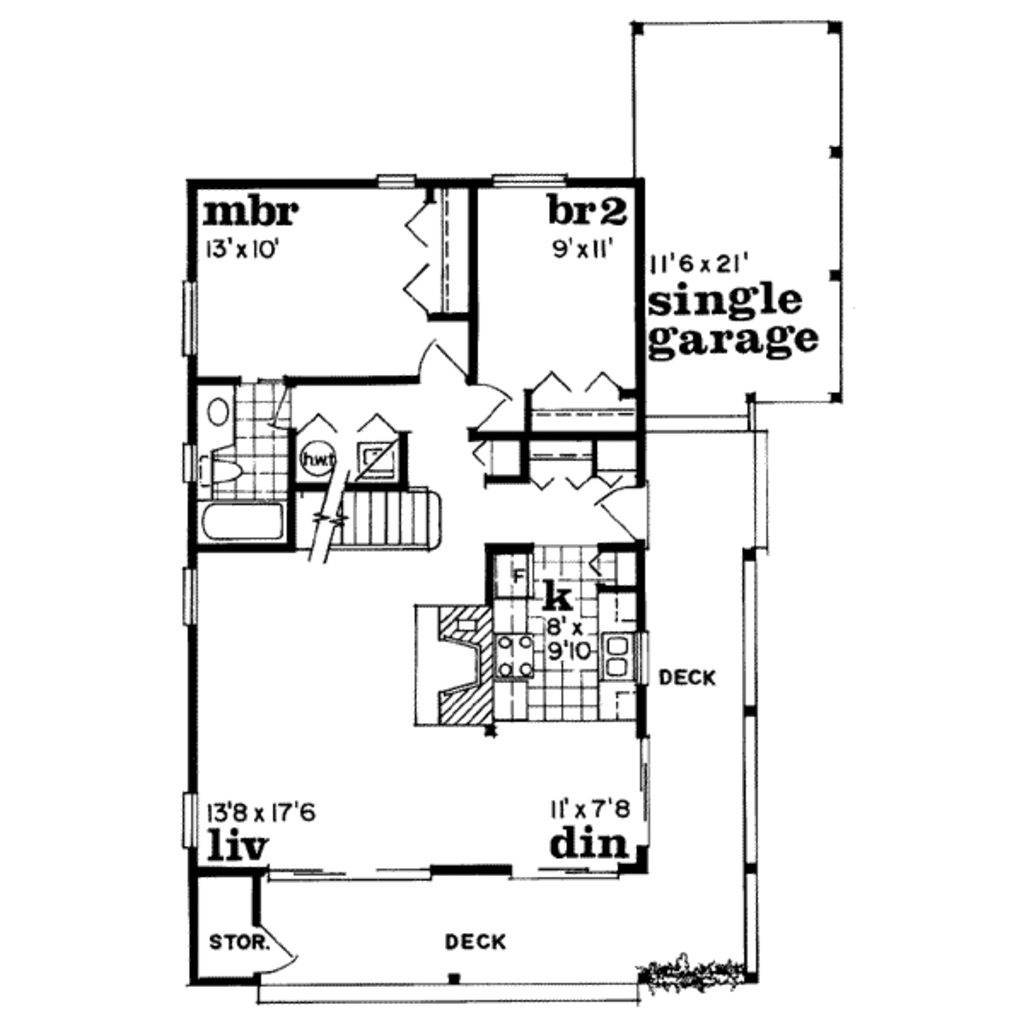door: (583, 479, 658, 542), (462, 375, 515, 437), (408, 335, 471, 382), (248, 923, 297, 975)
small_sink: (189, 390, 242, 435)
stairs: (292, 485, 449, 558)
tub: (193, 496, 291, 552)
twin_sink: (582, 622, 638, 691)
window: (172, 564, 207, 636), (175, 274, 204, 359), (487, 167, 578, 193), (176, 784, 207, 855), (368, 167, 429, 197)
